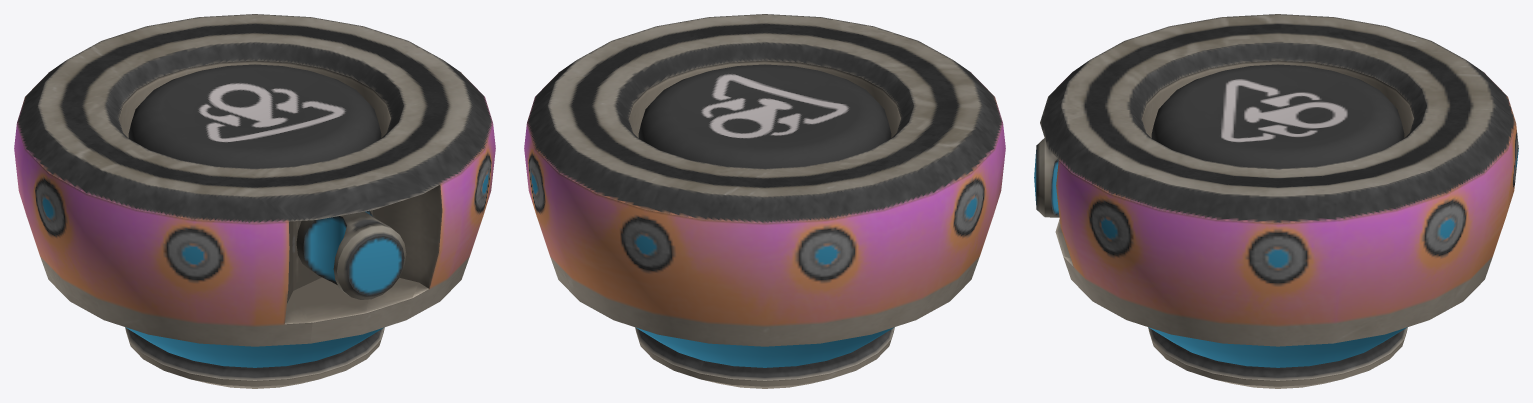
File: RepairBayMapPod.fbx
The picture shows the model from 3 angles, left to right: view 1: azimuth 30°, elevation 25°; view 2: azimuth 150°, elevation 25°; view 3: azimuth 270°, elevation 25°; orthographic projection.
Parts seen in each view (by area): view 1: RepairBayMapPodMain, RepairBayMapPodBurtton; view 2: RepairBayMapPodMain, RepairBayMapPodBurtton; view 3: RepairBayMapPodMain, RepairBayMapPodBurtton.
Boxes of the visible parts, <box> form: RepairBayMapPodMain: <box>14,14,495,388</box>; RepairBayMapPodBurtton: <box>128,64,381,168</box>; RepairBayMapPodMain: <box>524,14,1005,388</box>; RepairBayMapPodBurtton: <box>638,64,891,168</box>; RepairBayMapPodMain: <box>1034,14,1518,388</box>; RepairBayMapPodBurtton: <box>1151,64,1404,168</box>.
Bounding box in the file's own units: 16 × 9.56 × 16.1.
2 materials, 1 textured.
